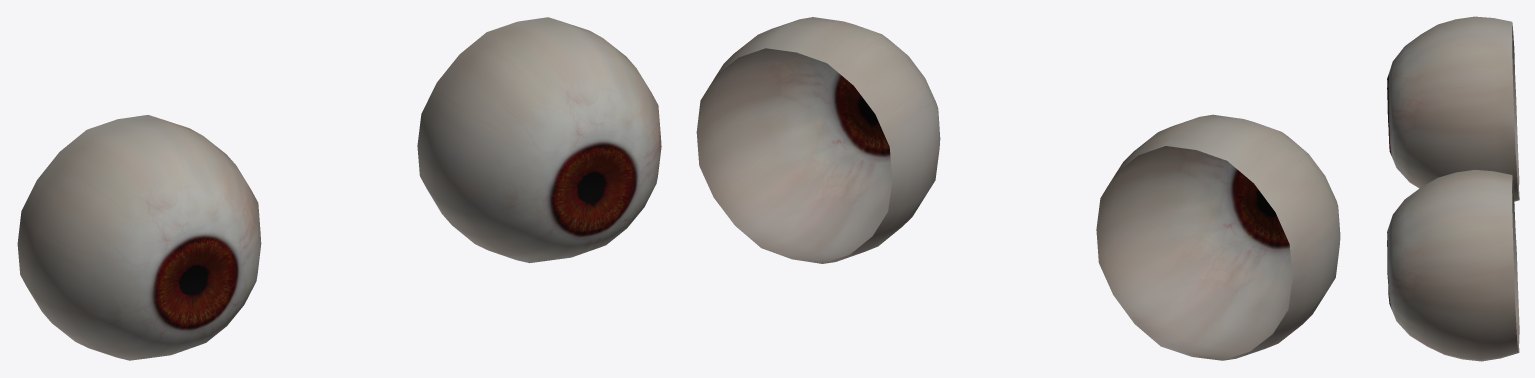
File: eyes.gltf
3 views of the same model, side by side, from view 1: azimuth 30°, elevation 25°; view 2: azimuth 150°, elevation 25°; view 3: azimuth 270°, elevation 25° (orthographic). The views are drawn at different scales.
Parts seen in each view (by area): view 1: eyes; view 2: eyes; view 3: eyes.
Part boxes in pixels (x1=…): eyes: x1=17, y1=17, x2=661, y2=360; eyes: x1=696, y1=17, x2=1340, y2=360; eyes: x1=1387, y1=16, x2=1519, y2=361.
Bounding box in the file's own units: 0.0889 × 0.031 × 0.0237.
1 material, 1 textured.
